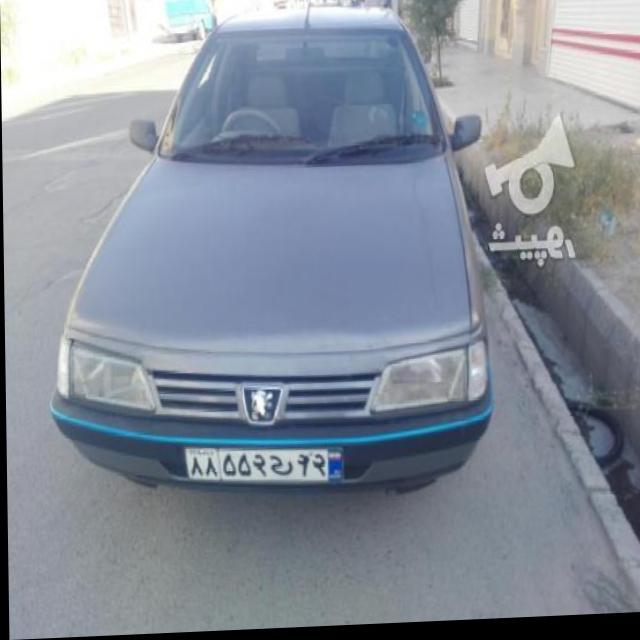licence: (180, 445, 347, 491)
